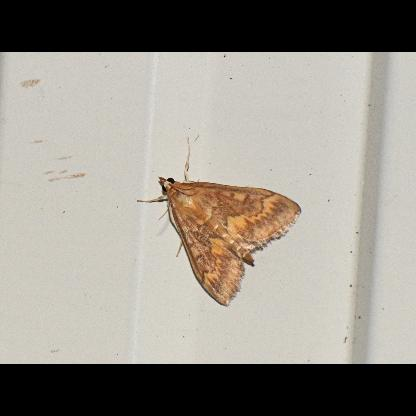Asian Corn Borer Moth: (136, 135, 304, 309)
